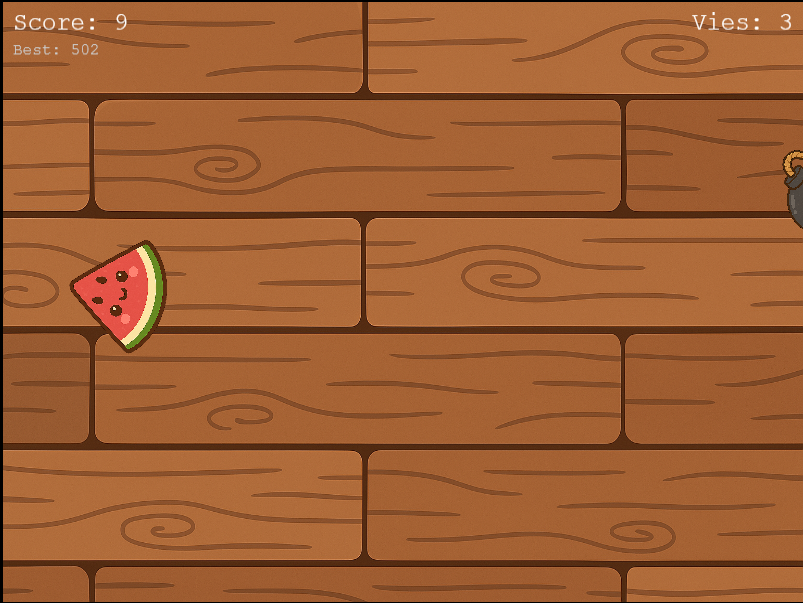bomb: (781, 146, 803, 233)
fruit: (70, 238, 170, 357)
